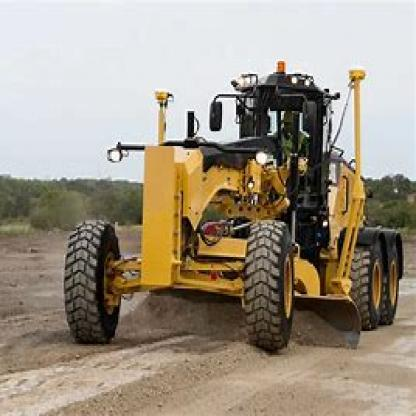bull_dozer/loader/grader: (53, 57, 399, 359)
